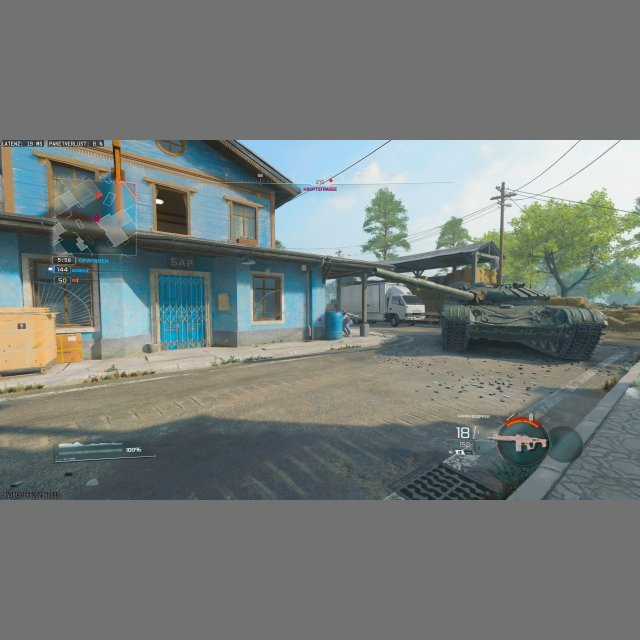player: (341, 311, 354, 337)
